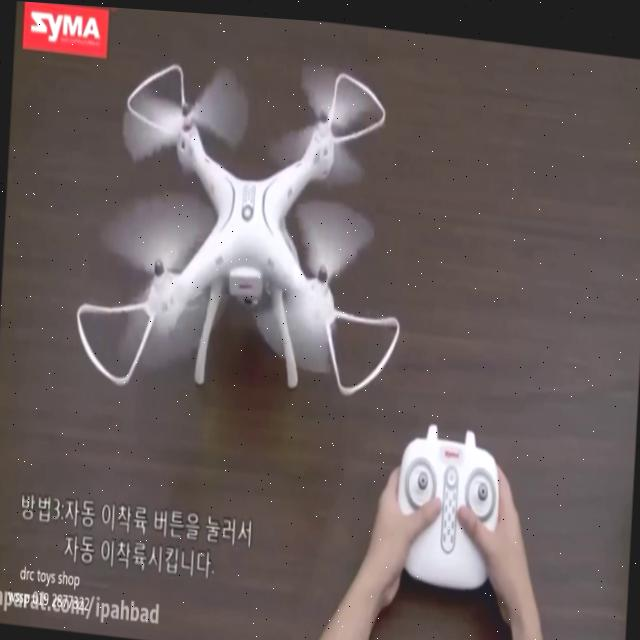drone: (72, 31, 414, 420)
